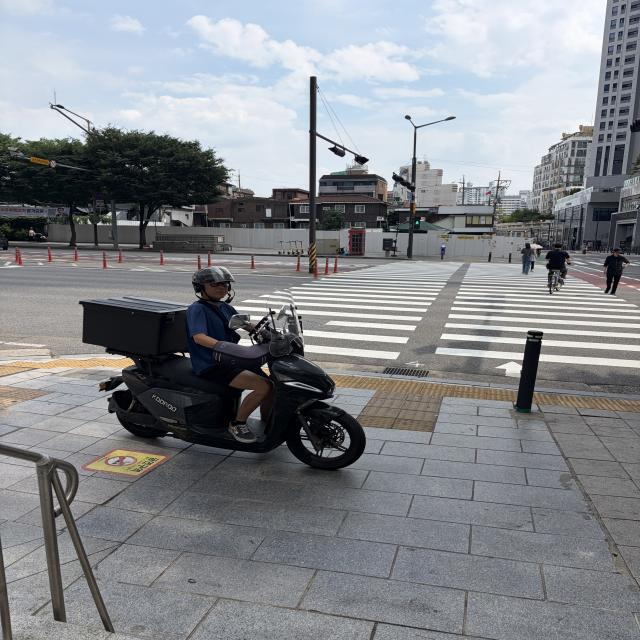motorcycle: (42, 256, 433, 510)
